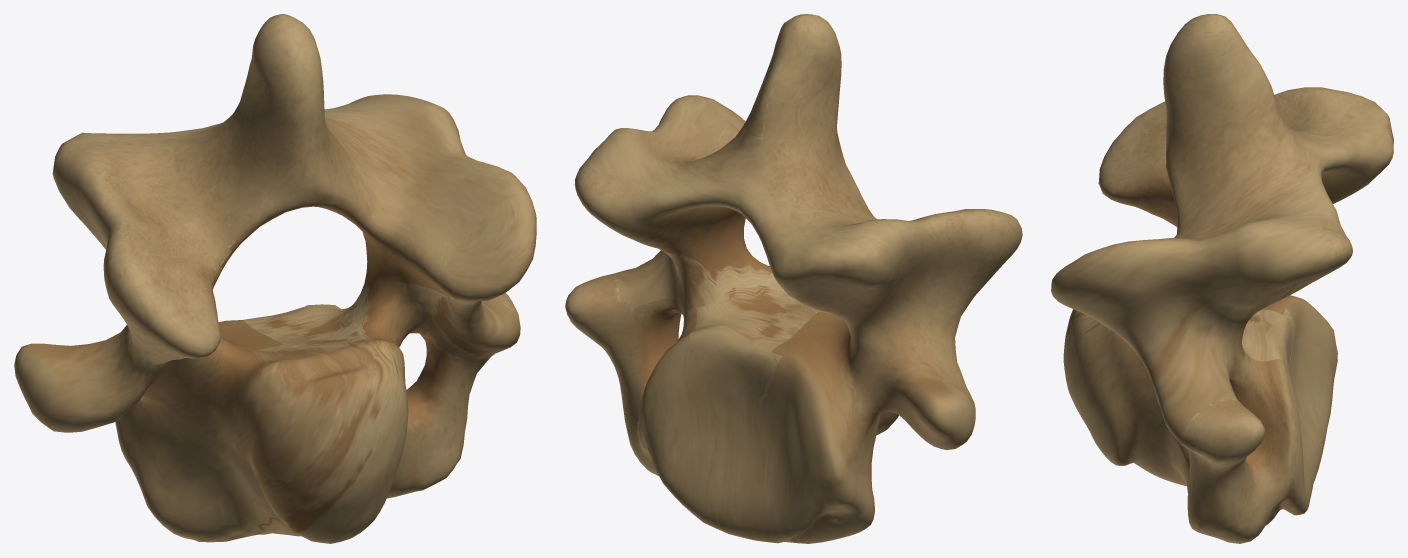
The picture shows the model from 3 angles, left to right: view 1: azimuth 30°, elevation 25°; view 2: azimuth 150°, elevation 25°; view 3: azimuth 270°, elevation 25°; orthographic projection. The views are drawn at different scales.
Parts seen in each view (by area): view 1: Group9637.001; view 2: Group9637.001; view 3: Group9637.001.
Boxes of the visible parts, x1,y1,x2,y2 form: Group9637.001: (14, 14, 536, 543); Group9637.001: (565, 14, 1022, 543); Group9637.001: (1051, 14, 1393, 543).
Size of the model in its own units: 65.33 by 74.3 by 47.22.
Materials: 1 (1 with a texture image).
